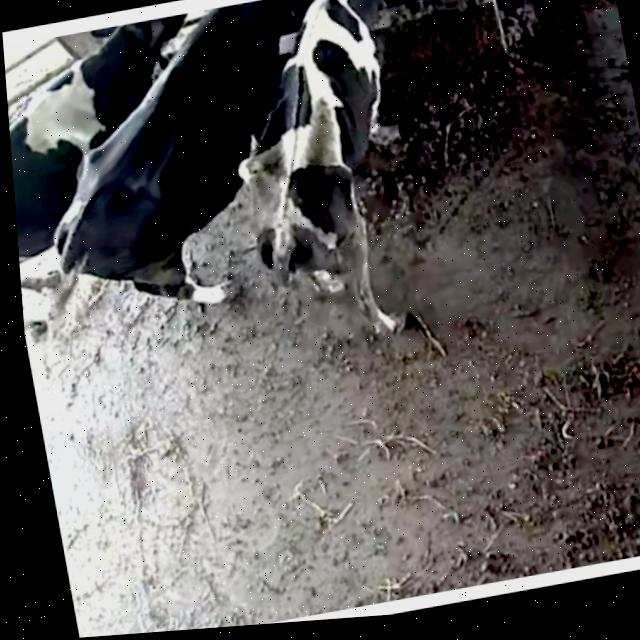drink: (296, 0, 430, 76), (203, 0, 328, 74)
